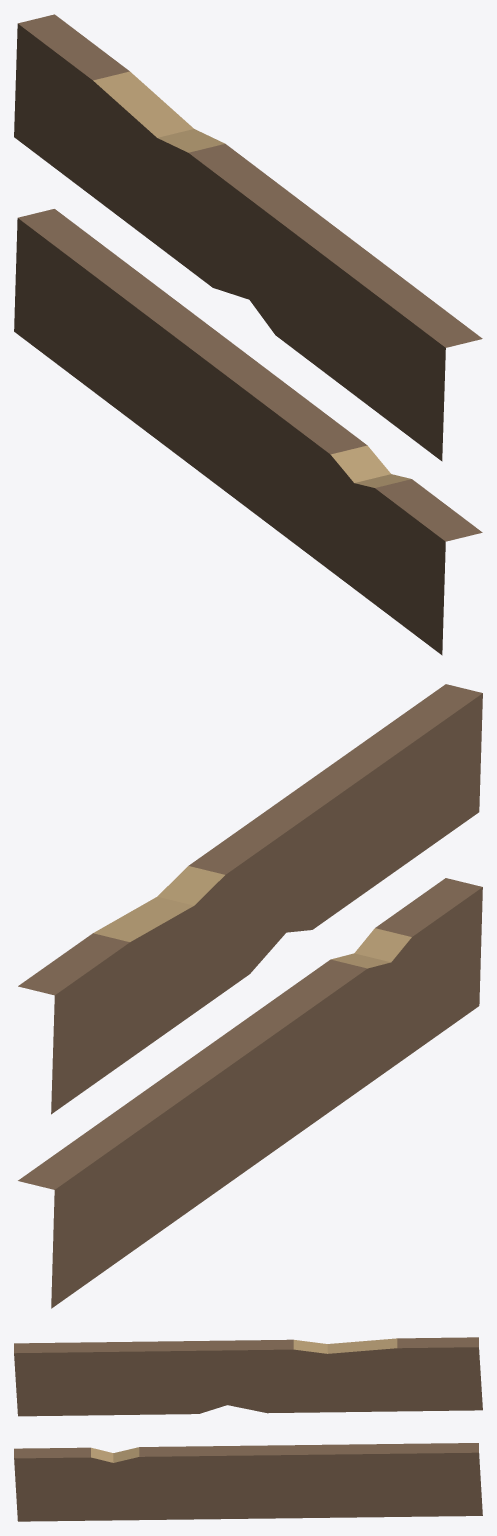
File: Cave_Prop_Support_Wall_Boards_2.glb
3 renders of one model, top to bottom at view 1: azimuth 30°, elevation 25°; view 2: azimuth 150°, elevation 25°; view 3: azimuth 270°, elevation 25°, orthographic. The views are drawn at different scales.
Parts seen in each view (by area): view 1: Cave_Prop_Support_Wall_Boards_2; view 2: Cave_Prop_Support_Wall_Boards_2; view 3: Cave_Prop_Support_Wall_Boards_2.
Boxes of the visible parts, <box> form: Cave_Prop_Support_Wall_Boards_2: <box>14,14,482,655</box>; Cave_Prop_Support_Wall_Boards_2: <box>18,684,482,1308</box>; Cave_Prop_Support_Wall_Boards_2: <box>14,1337,482,1521</box>.
Bounding box in the file's own units: 0.1 × 0.8277 × 2.02.
